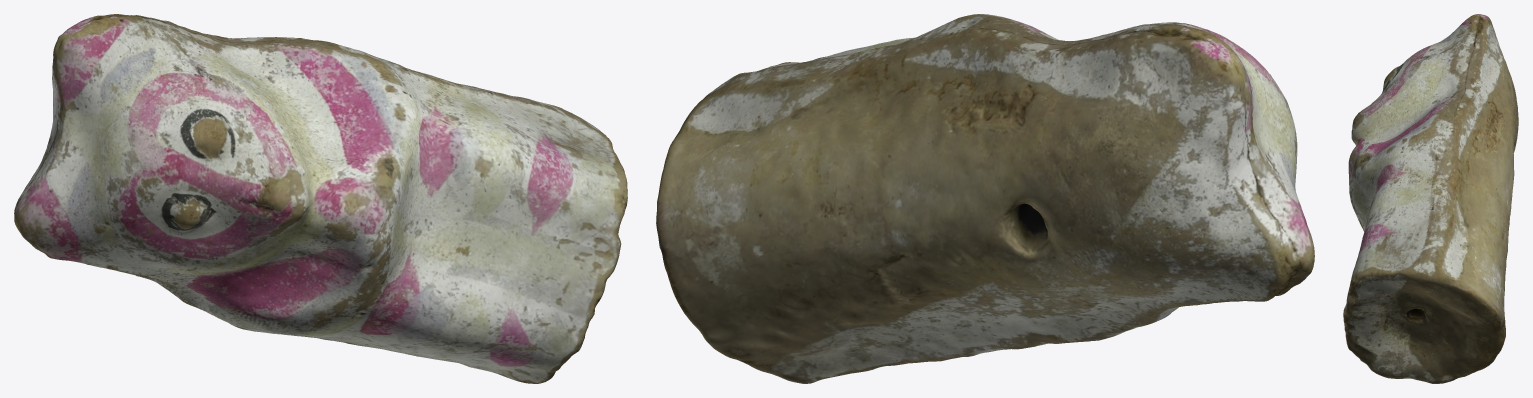
The picture shows the model from 3 angles, left to right: view 1: azimuth 30°, elevation 25°; view 2: azimuth 150°, elevation 25°; view 3: azimuth 270°, elevation 25°; orthographic projection. The views are drawn at different scales.
Size of the model in its own units: 0.9763 by 0.6921 by 0.4313.
1 material, 1 textured.
